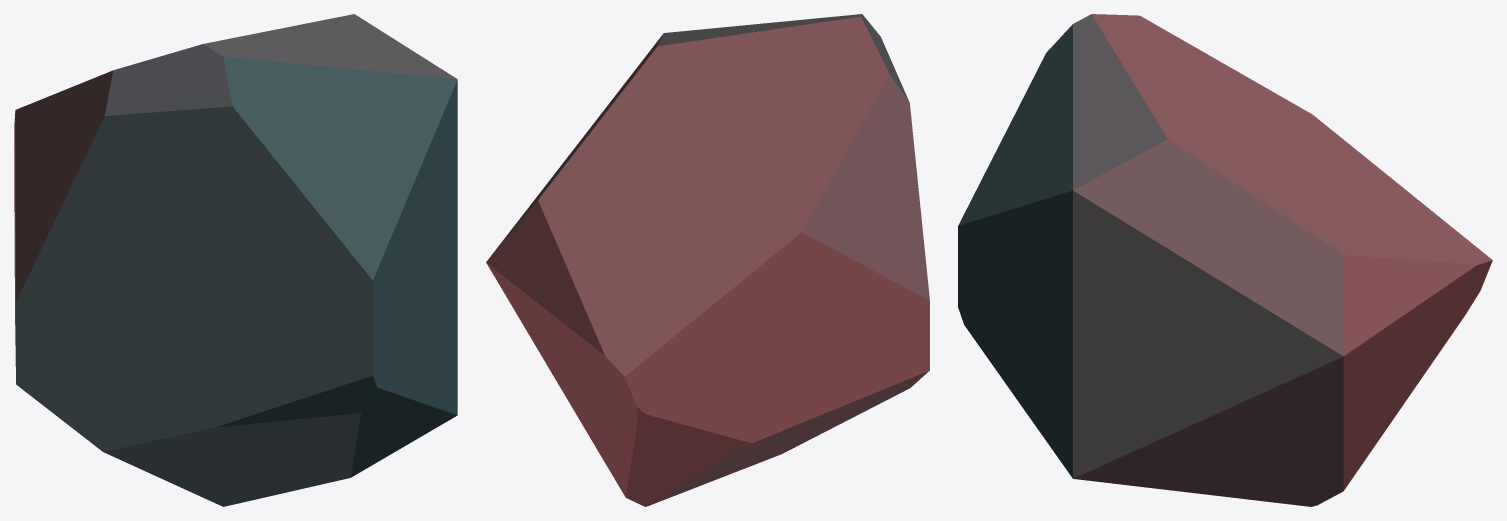
File: gemstone_anim_10_5_10.glb
3 views of the same model, side by side, from view 1: azimuth 30°, elevation 25°; view 2: azimuth 150°, elevation 25°; view 3: azimuth 270°, elevation 25° (orthographic). The views are drawn at different scales.
Visible parts, largest first — view 1: gemstone_anim_10_5_10; view 2: gemstone_anim_10_5_10; view 3: gemstone_anim_10_5_10.
Part boxes in pixels (x1=…): gemstone_anim_10_5_10: x1=14, y1=14, x2=457, y2=506; gemstone_anim_10_5_10: x1=486, y1=14, x2=929, y2=506; gemstone_anim_10_5_10: x1=958, y1=14, x2=1492, y2=506.
Bounding box in the file's own units: 1490 × 1703 × 1871.
